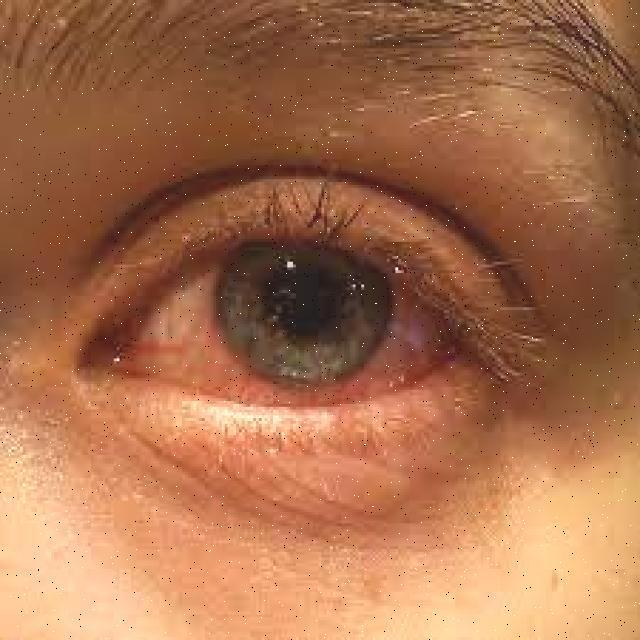Conjunctivitis: (93, 256, 494, 414)
